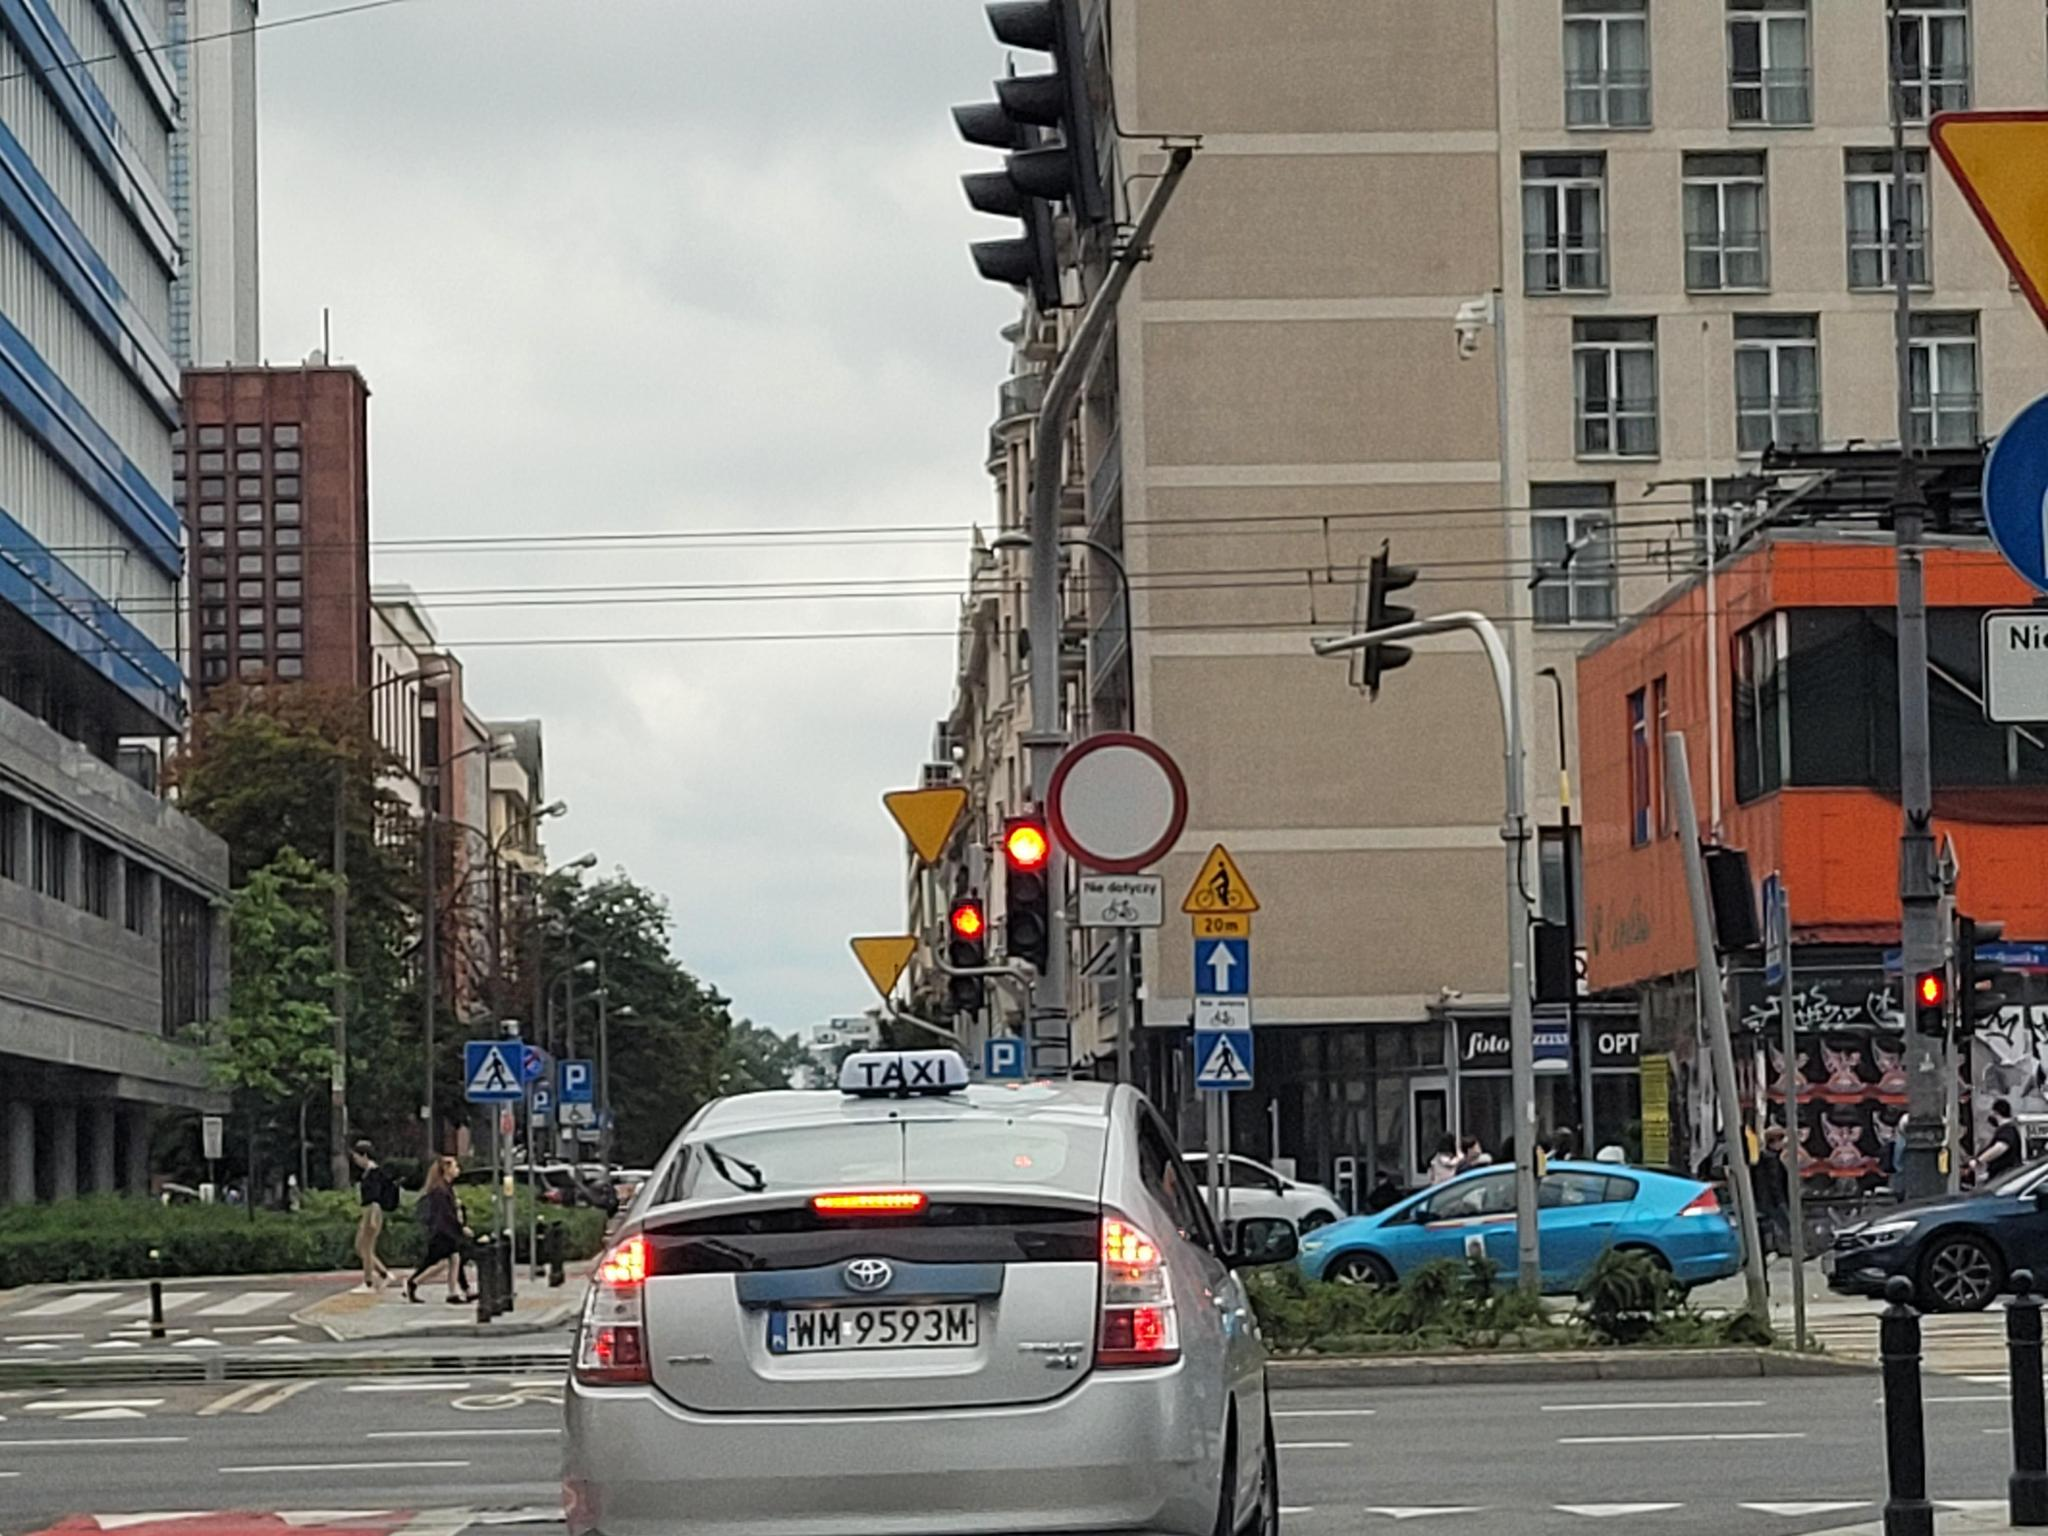information: (466, 1042, 524, 1100), (1195, 939, 1250, 992), (1198, 1033, 1250, 1087), (985, 1041, 1022, 1079), (558, 1060, 592, 1100)
mandatory: (1982, 386, 2048, 597)
other: (1982, 611, 2048, 724), (1079, 878, 1163, 926), (1195, 999, 1248, 1029), (1193, 915, 1248, 936), (558, 1102, 592, 1121)
prohibitory: (1048, 733, 1190, 876)
warning: (1925, 110, 2048, 345), (880, 786, 969, 868), (1180, 842, 1261, 913), (848, 934, 919, 999)
